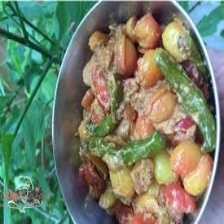sabzi: (71, 9, 218, 224)
